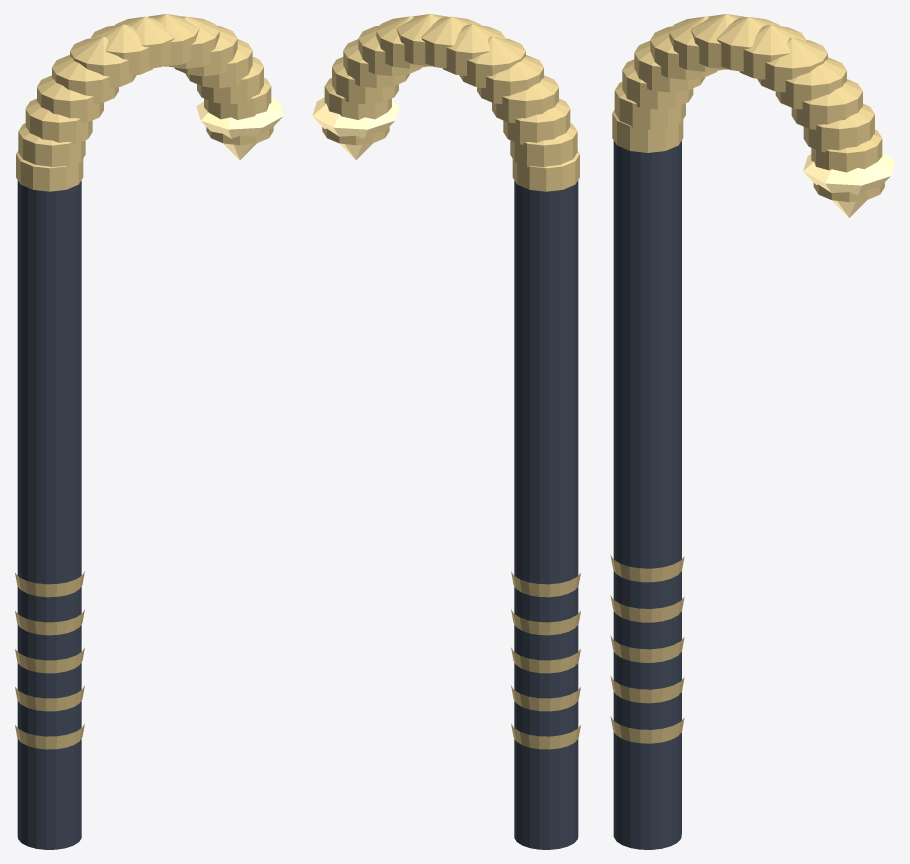
Rendered from ellusur_relic.gltf.
The picture shows the model from 3 angles, left to right: view 1: azimuth 30°, elevation 25°; view 2: azimuth 150°, elevation 25°; view 3: azimuth 330°, elevation 25°; orthographic projection. The views are drawn at different scales.
Visible parts, largest first — view 1: ellusur_crook_relic_review; view 2: ellusur_crook_relic_review; view 3: ellusur_crook_relic_review.
Part boxes in pixels (x1,y1,x2,y2): ellusur_crook_relic_review: [15, 14, 283, 849]; ellusur_crook_relic_review: [312, 14, 580, 849]; ellusur_crook_relic_review: [610, 14, 895, 849].
Bounding box in the file's own units: 0.465 × 1.36 × 0.14.
